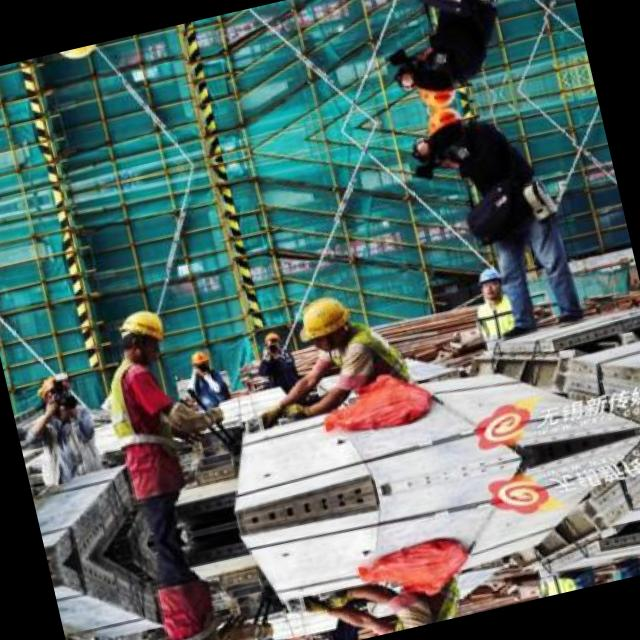helmet: (292, 292, 358, 349), (112, 307, 169, 366), (420, 102, 472, 156), (410, 58, 462, 112), (34, 372, 72, 417), (50, 42, 100, 64), (475, 266, 505, 299), (186, 348, 212, 374), (261, 332, 282, 356)
